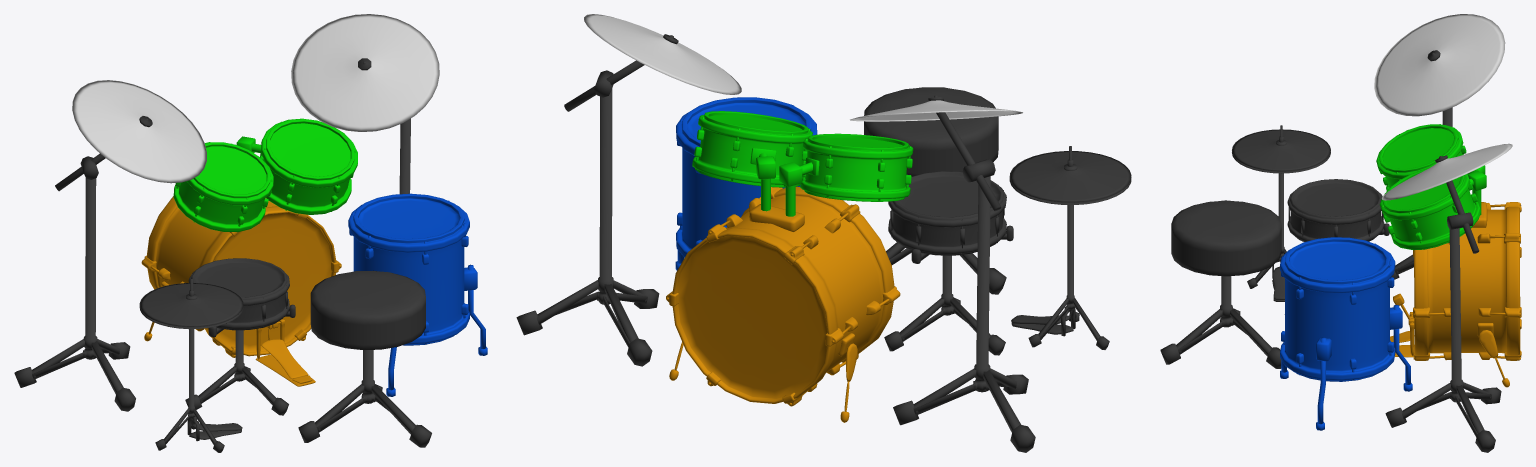
The model's file is drum3.fbx.
3 views of the same model, side by side, from view 1: azimuth 30°, elevation 25°; view 2: azimuth 150°, elevation 25°; view 3: azimuth 270°, elevation 25° (orthographic). The views are drawn at different scales.
Visible parts, largest first — view 1: 円柱.009, 円柱.002, 円柱.005, 円柱.011, 円柱.003, 円柱, 円柱.004, 円柱.001, 円柱.006; view 2: 円柱.002, 円柱.001, 円柱.004, 円柱.006, 円柱.011, 円柱.005, 円柱, 円柱.009, 円柱.003, 円柱.008, 円柱.007; view 3: 円柱.005, 円柱.002, 円柱.009, 円柱.011, 円柱.001, 円柱.004, 円柱.006, 円柱.003, 円柱, 円柱.007.
Boxes of the visible parts, bbox=[...] form: 円柱.009: bbox=[72, 14, 439, 183]; 円柱.002: bbox=[141, 196, 341, 386]; 円柱.005: bbox=[348, 193, 487, 396]; 円柱.011: bbox=[298, 270, 431, 447]; 円柱.003: bbox=[260, 118, 357, 214]; 円柱: bbox=[173, 142, 273, 232]; 円柱.004: bbox=[185, 258, 295, 415]; 円柱.001: bbox=[14, 58, 410, 411]; 円柱.006: bbox=[139, 278, 243, 452]; 円柱.002: bbox=[666, 186, 900, 422]; 円柱.001: bbox=[516, 34, 1035, 452]; 円柱.004: bbox=[884, 171, 1013, 355]; 円柱.006: bbox=[1009, 146, 1131, 349]; 円柱.011: bbox=[864, 87, 1006, 294]; 円柱.005: bbox=[675, 97, 817, 270]; 円柱: bbox=[800, 133, 913, 201]; 円柱.009: bbox=[584, 14, 1022, 121]; 円柱.003: bbox=[692, 111, 812, 187]; 円柱.008: bbox=[779, 162, 812, 216]; 円柱.007: bbox=[756, 152, 775, 211]; 円柱.005: bbox=[1280, 237, 1412, 430]; 円柱.002: bbox=[1390, 202, 1521, 387]; 円柱.009: bbox=[1374, 14, 1512, 200]; 円柱.011: bbox=[1160, 200, 1281, 368]; 円柱.001: bbox=[1385, 50, 1501, 452]; 円柱.004: bbox=[1284, 179, 1389, 314]; 円柱.006: bbox=[1232, 125, 1330, 301]; 円柱.003: bbox=[1379, 168, 1481, 250]; 円柱: bbox=[1376, 124, 1466, 190]; 円柱.007: bbox=[1468, 171, 1486, 215].
Size of the model in its own units: 828 by 507 by 623.
